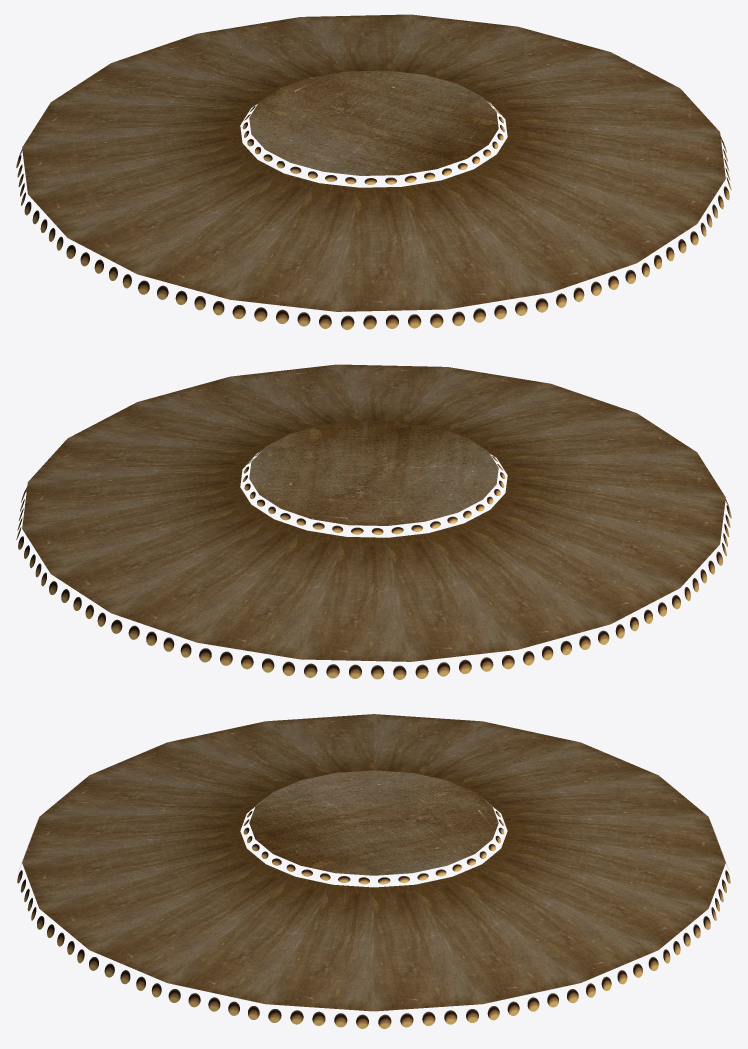
File: thm_tato_luke_farm_garage_l0.fbx
3 views of the same model, one above another, from view 1: azimuth 30°, elevation 25°; view 2: azimuth 150°, elevation 25°; view 3: azimuth 270°, elevation 25° (orthographic).
Visible parts, largest first — view 1: mesh_node; view 2: mesh_node; view 3: mesh_node.
Boxes of the visible parts, x1,y1,x2,y2 form: mesh_node: (16,14,731,329); mesh_node: (16,364,731,679); mesh_node: (17,714,730,1028).
Bounding box in the file's own units: 15.9 × 1.46 × 15.9.
